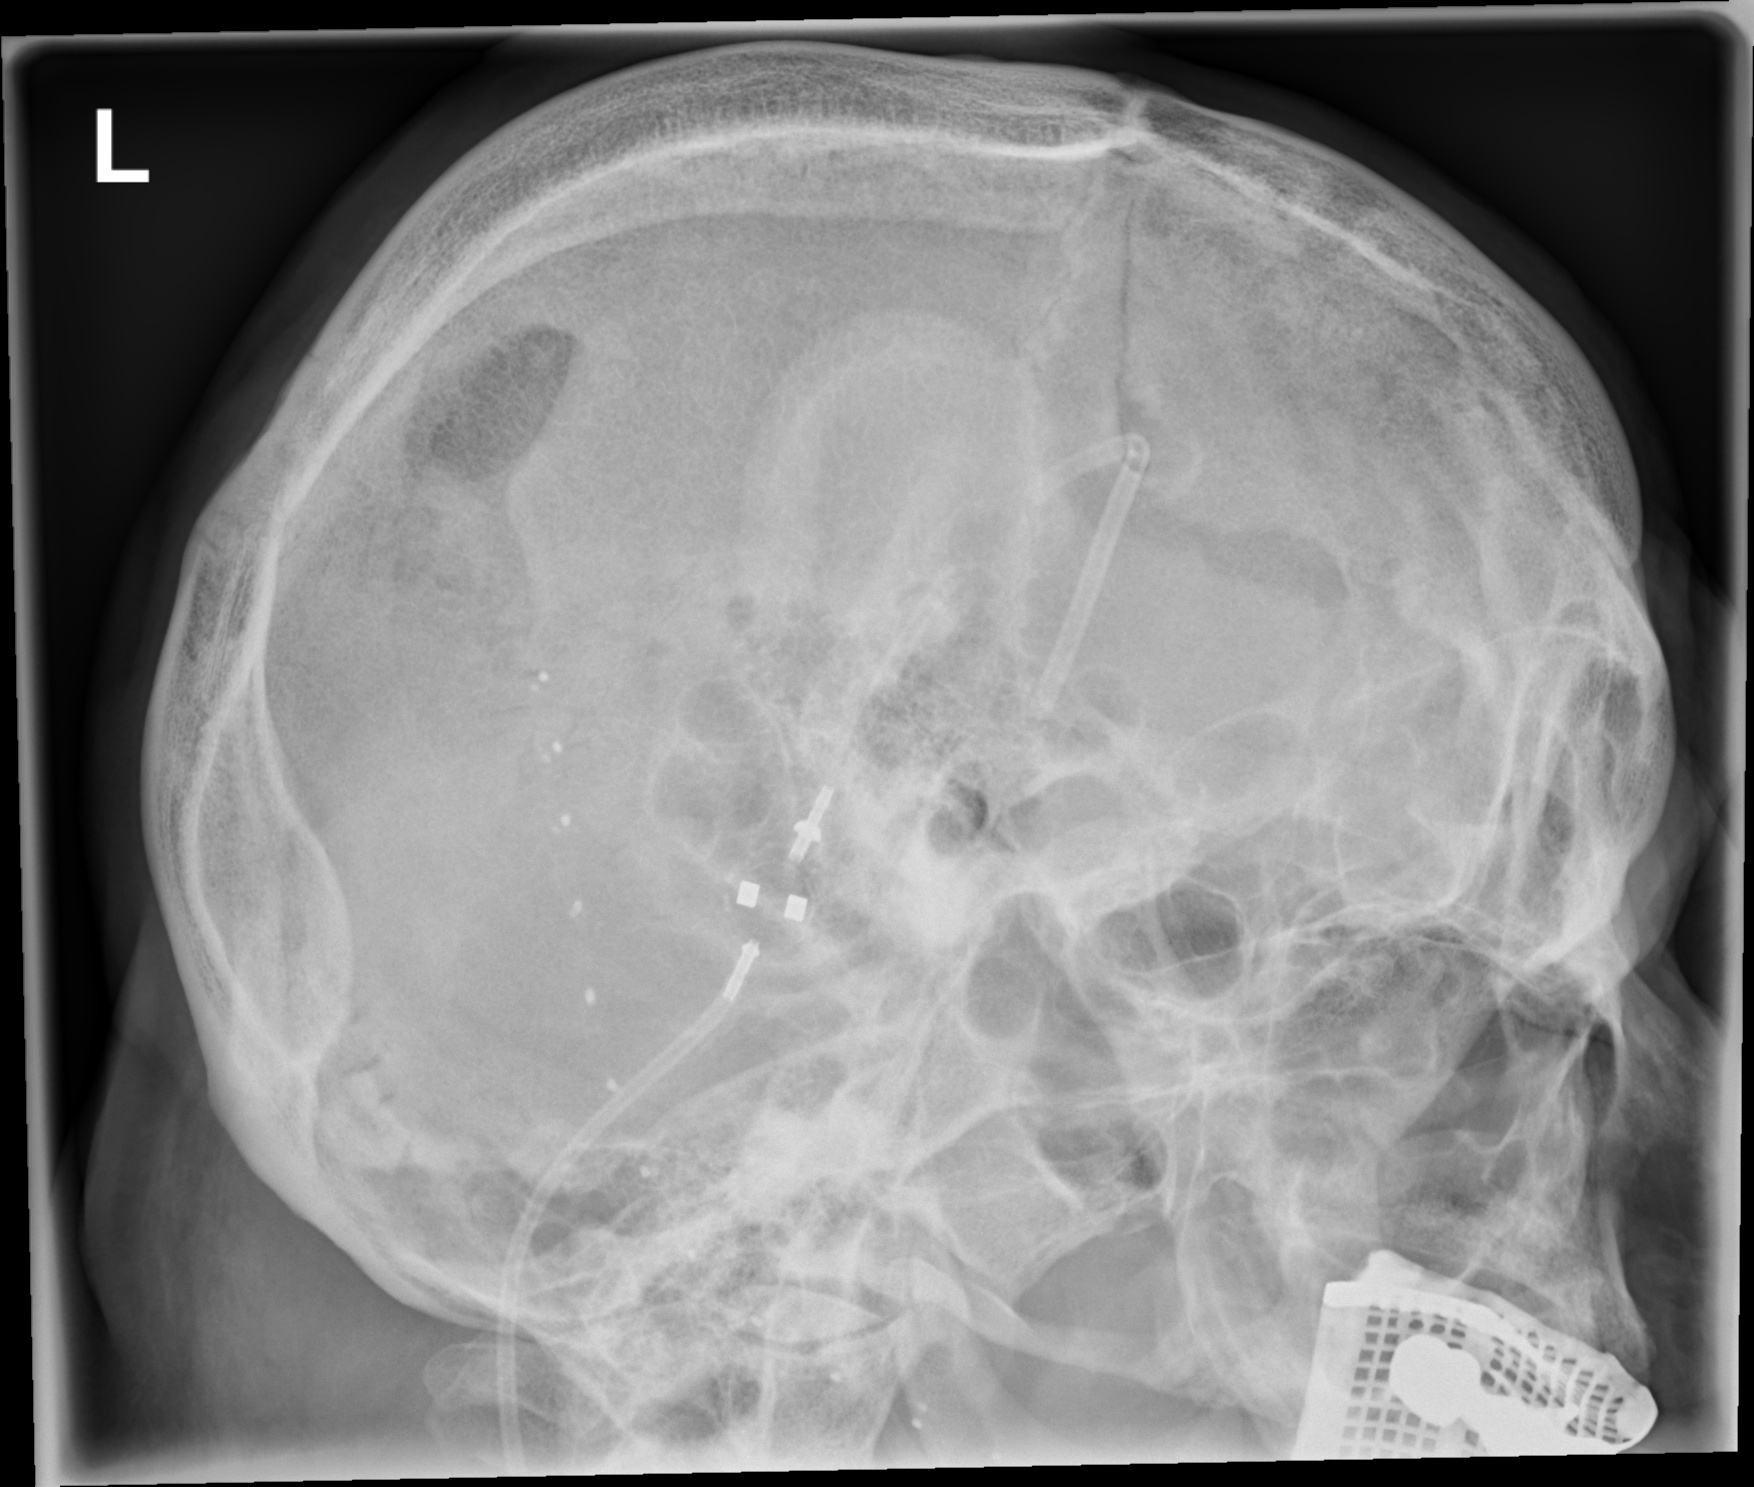Sophysa Polaris: (699, 831, 832, 968)
